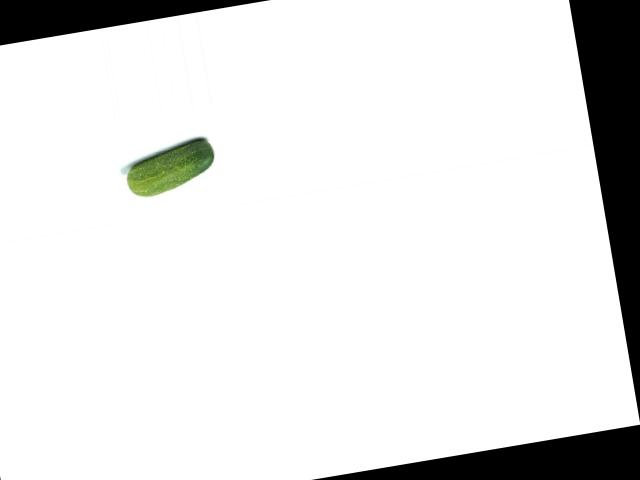cucumber: (122, 137, 219, 199)
